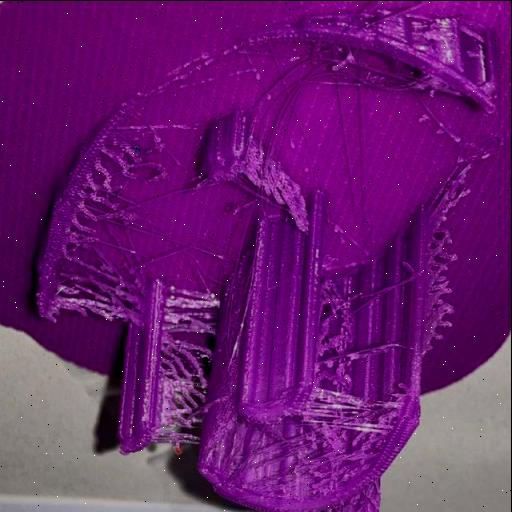stringing: (157, 366, 208, 438), (304, 392, 386, 434), (162, 292, 212, 360), (54, 286, 136, 320), (300, 54, 386, 86), (63, 196, 105, 248), (86, 160, 122, 196)
